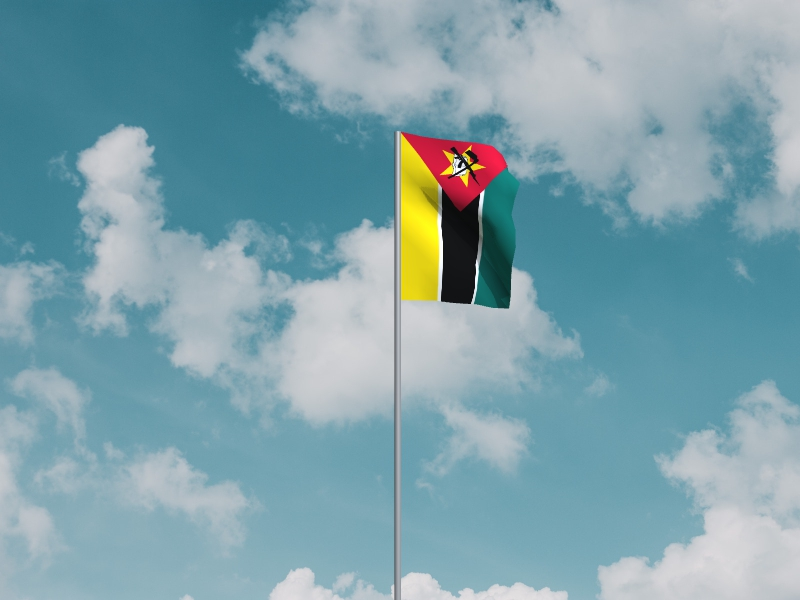mz: (402, 133, 521, 310)
